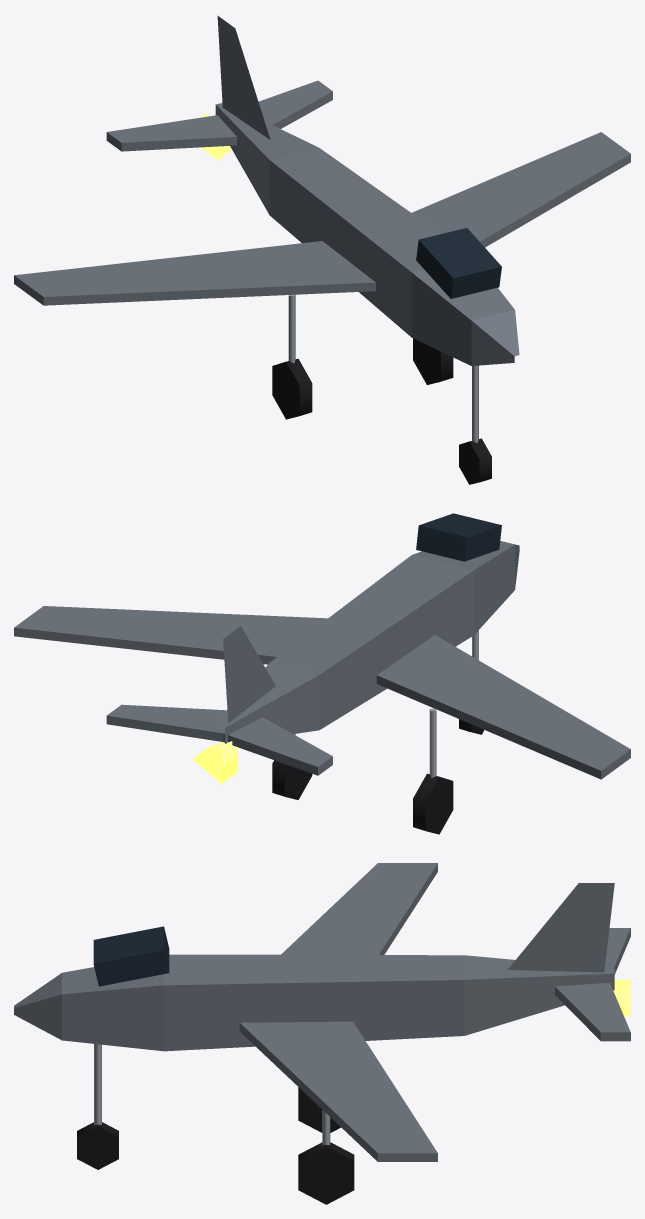
The model's file is veh_air_fighter_a07_lod2.glb.
3 views of the same model, one above another, from view 1: azimuth 30°, elevation 25°; view 2: azimuth 150°, elevation 25°; view 3: azimuth 270°, elevation 25° (orthographic).
Visible parts, largest first — view 1: body, gear_1, gear_0, gear_2; view 2: body, gear_1, gear_2; view 3: body, gear_2, gear_0, gear_1.
Boxes of the visible parts, <box> form: body: <box>14,16,630,365</box>; gear_1: <box>272,294,312,419</box>; gear_0: <box>459,365,491,484</box>; gear_2: <box>413,338,453,384</box>; body: <box>14,513,630,784</box>; gear_1: <box>413,708,453,834</box>; gear_2: <box>272,734,312,799</box>; body: <box>14,863,630,1161</box>; gear_2: <box>298,1110,354,1204</box>; gear_0: <box>77,1044,118,1169</box>; gear_1: <box>298,1087,340,1132</box>.
Bounding box in the file's own units: 8.48 × 3.89 × 7.62.
